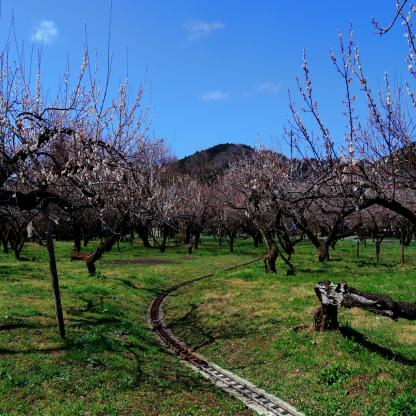Ume: (233, 0, 416, 277), (1, 1, 166, 232), (119, 158, 282, 242)
